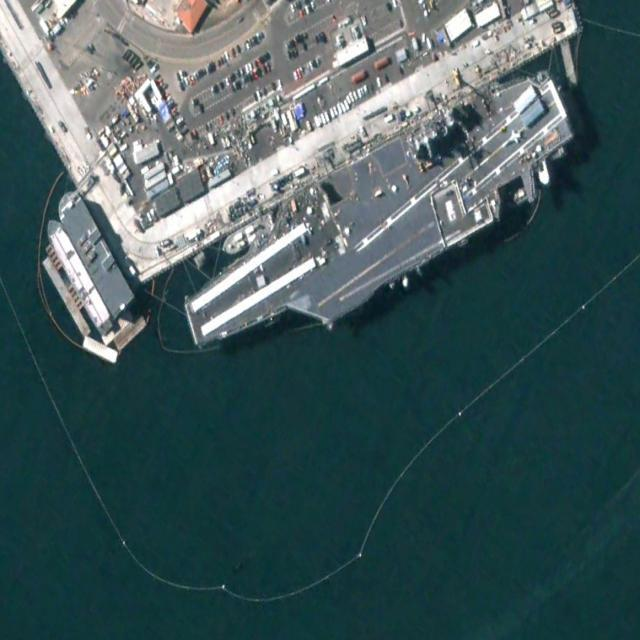Aircraft Carrier: (171, 49, 585, 391)
Other Ship: (42, 210, 115, 341)
